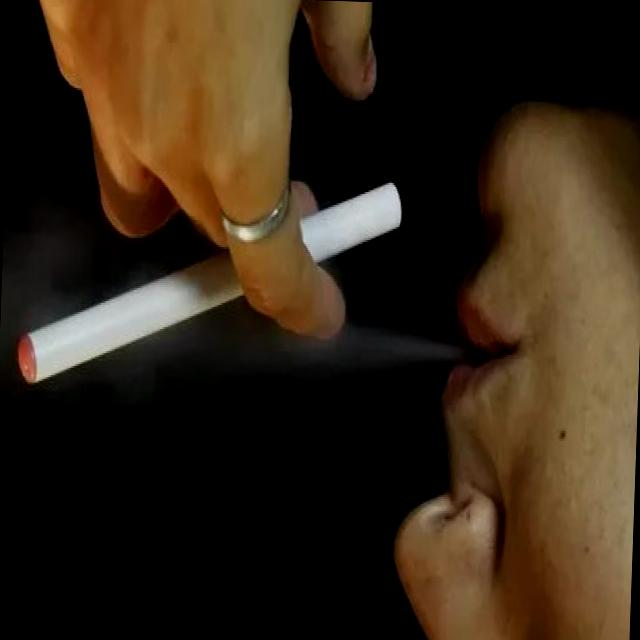smoke: (12, 164, 410, 400)
